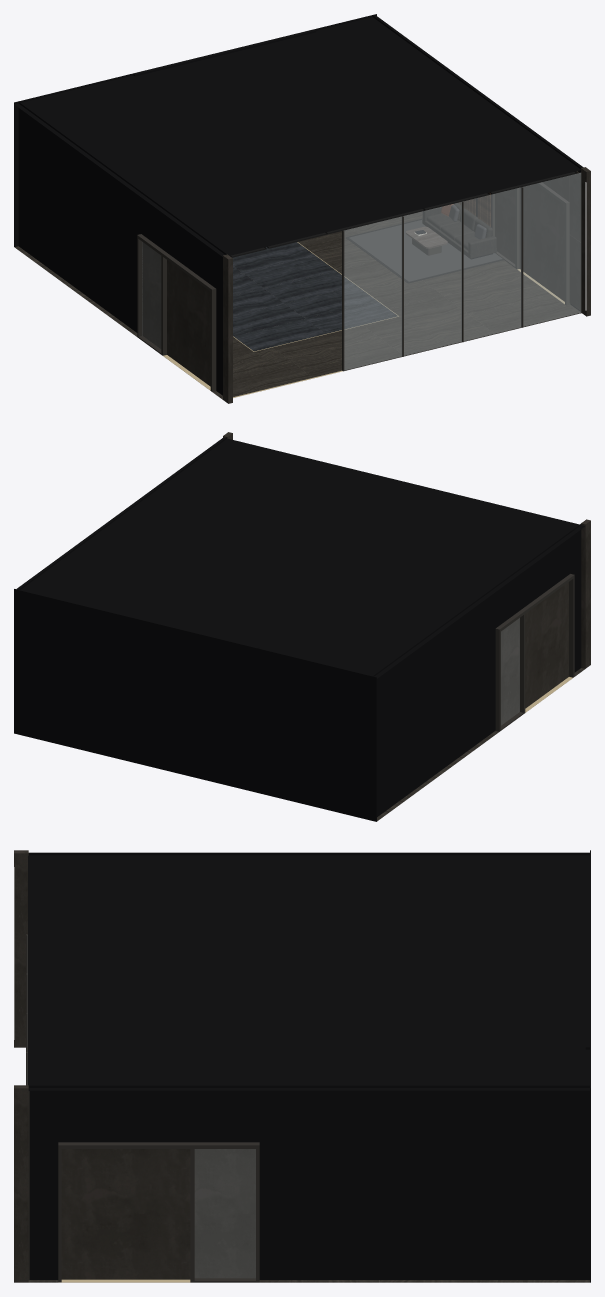
File: room_sport.glb
3 renders of one model, top to bottom at view 1: azimuth 30°, elevation 25°; view 2: azimuth 150°, elevation 25°; view 3: azimuth 270°, elevation 25°, orthographic. The views are drawn at different scales.
Parts seen in each view (by area): view 1: MTG_Reveals, MTG_Glass_Vitrine, MTG_Floor, MTG_PortalFill_L, MTG_PortalFill_R, MTG_Rug, MTG_Walls, MTG_Sofa, MTG_Glass_PortalL, MTG_Pier_-1, MTG_Pier_1, MTG_Ceiling (+5 smaller); view 2: MTG_Reveals, MTG_PortalFill_L, MTG_Glass_PortalL, MTG_Pier_-1, MTG_PortalL_Mull, MTG_Floor, MTG_PortalL_JambA, MTG_PortalL_Head, MTG_PortalL_JambB; view 3: MTG_Reveals, MTG_PortalFill_R, MTG_Glass_PortalR, MTG_Pier_1, MTG_Pier_-1, MTG_PortalR_Head, MTG_Floor, MTG_PortalR_Mull.
Boxes of the visible parts, x1=… form: MTG_Reveals: x1=14, y1=14, x2=583, y2=395; MTG_Glass_Vitrine: x1=344, y1=173, x2=580, y2=369; MTG_Floor: x1=14, y1=211, x2=579, y2=399; MTG_PortalFill_L: x1=142, y1=242, x2=210, y2=386; MTG_PortalFill_R: x1=495, y1=184, x2=564, y2=301; MTG_Rug: x1=349, y1=220, x2=502, y2=281; MTG_Walls: x1=458, y1=171, x2=580, y2=310; MTG_Sofa: x1=422, y1=203, x2=496, y2=259; MTG_Glass_PortalL: x1=142, y1=242, x2=160, y2=348; MTG_Pier_-1: x1=223, y1=254, x2=232, y2=403; MTG_Pier_1: x1=581, y1=167, x2=590, y2=316; MTG_Ceiling: x1=230, y1=171, x2=576, y2=257; MTG_Reveals: x1=14, y1=437, x2=584, y2=821; MTG_PortalFill_L: x1=501, y1=582, x2=568, y2=725; MTG_Glass_PortalL: x1=501, y1=618, x2=519, y2=724; MTG_Pier_-1: x1=581, y1=519, x2=590, y2=668; MTG_PortalL_Mull: x1=519, y1=614, x2=525, y2=713; MTG_Floor: x1=377, y1=668, x2=584, y2=821; MTG_PortalL_JambA: x1=495, y1=631, x2=500, y2=731; MTG_PortalL_Head: x1=495, y1=574, x2=574, y2=632; MTG_PortalL_JambB: x1=569, y1=578, x2=574, y2=677; MTG_Reveals: x1=28, y1=850, x2=590, y2=1282; MTG_PortalFill_R: x1=61, y1=1149, x2=255, y2=1279; MTG_Glass_PortalR: x1=195, y1=1149, x2=255, y2=1277; MTG_Pier_1: x1=14, y1=1085, x2=28, y2=1282; MTG_Pier_-1: x1=14, y1=850, x2=28, y2=1047; MTG_PortalR_Head: x1=58, y1=1142, x2=259, y2=1148; MTG_Floor: x1=28, y1=1280, x2=589, y2=1282; MTG_PortalR_Mull: x1=190, y1=1149, x2=194, y2=1282.
Bounding box in the file's own units: 13 × 4.95 × 13.32.
Materials: 24 (6 with a texture image).
